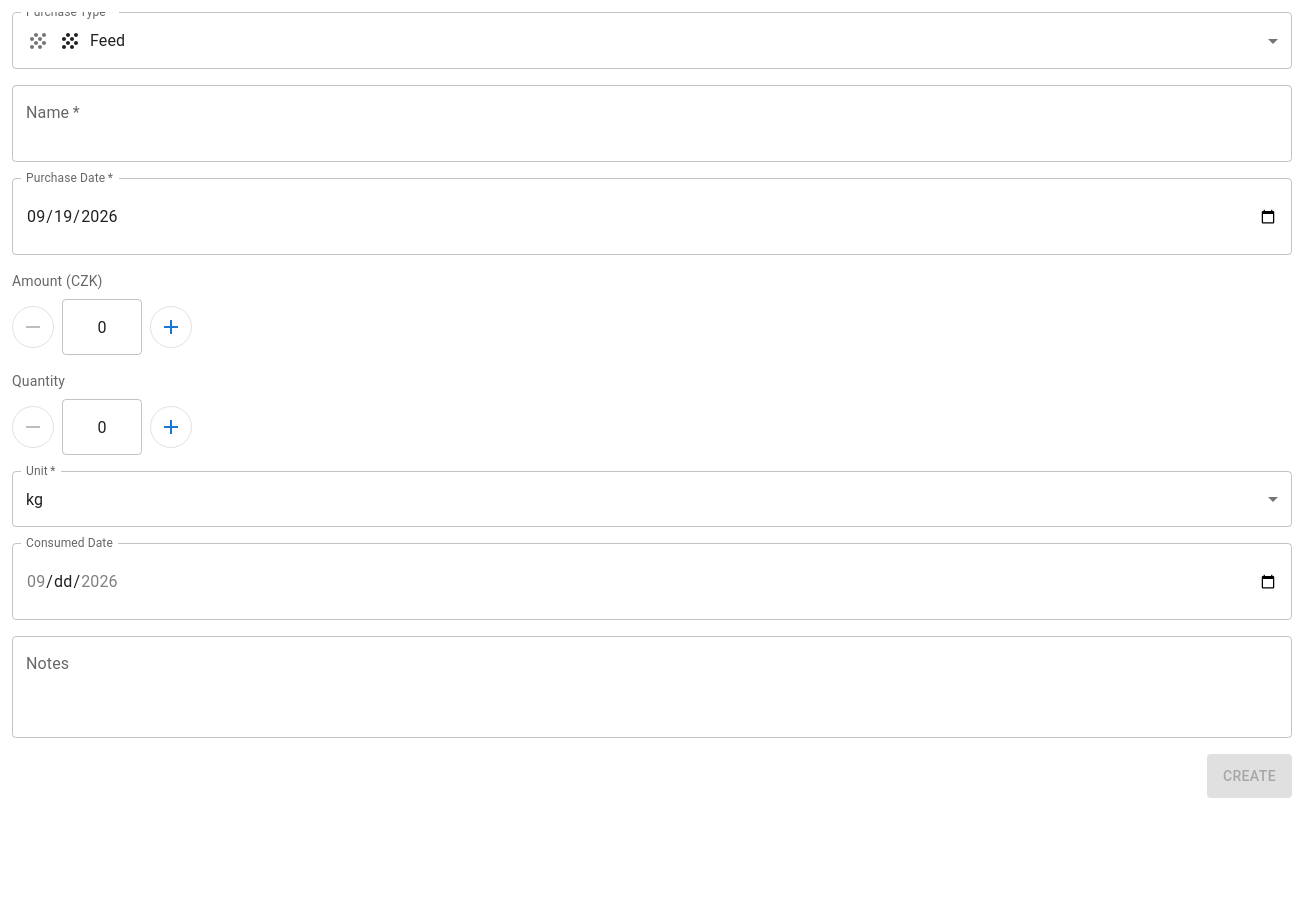
Test: PurchaseForm › Validation › should validate name field
Expected: the button "Create" is disabled, [1207,754,1292,798]
# Type a name
In the dropdown labelled "Name *": (637, 124) [21,94,1253,153], type "Test Purchase"
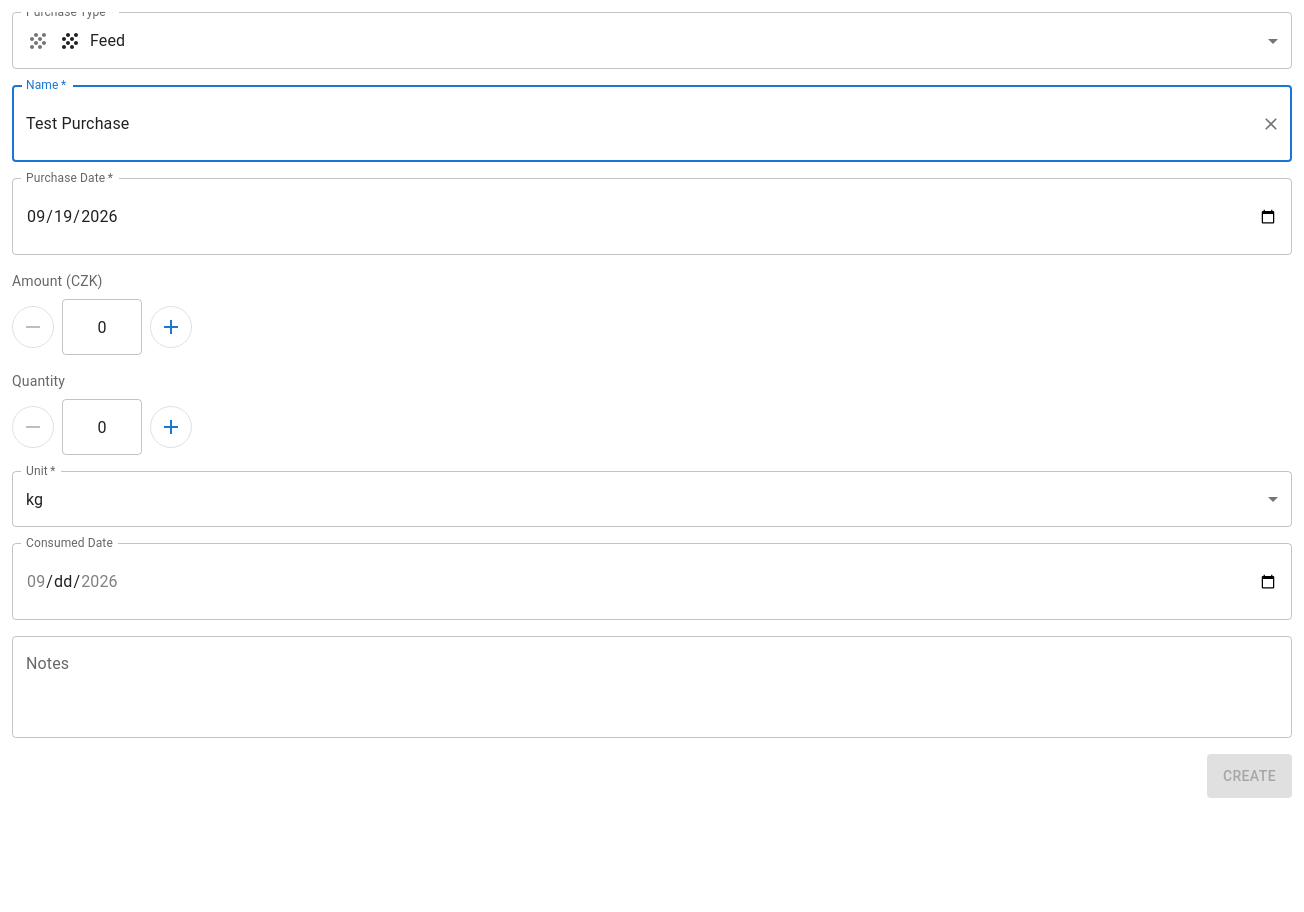
Expected: the button "Create" is disabled, [1207,754,1292,798]
Click the button named "Amount (CZK) increase": (171, 327) [150,306,192,348]
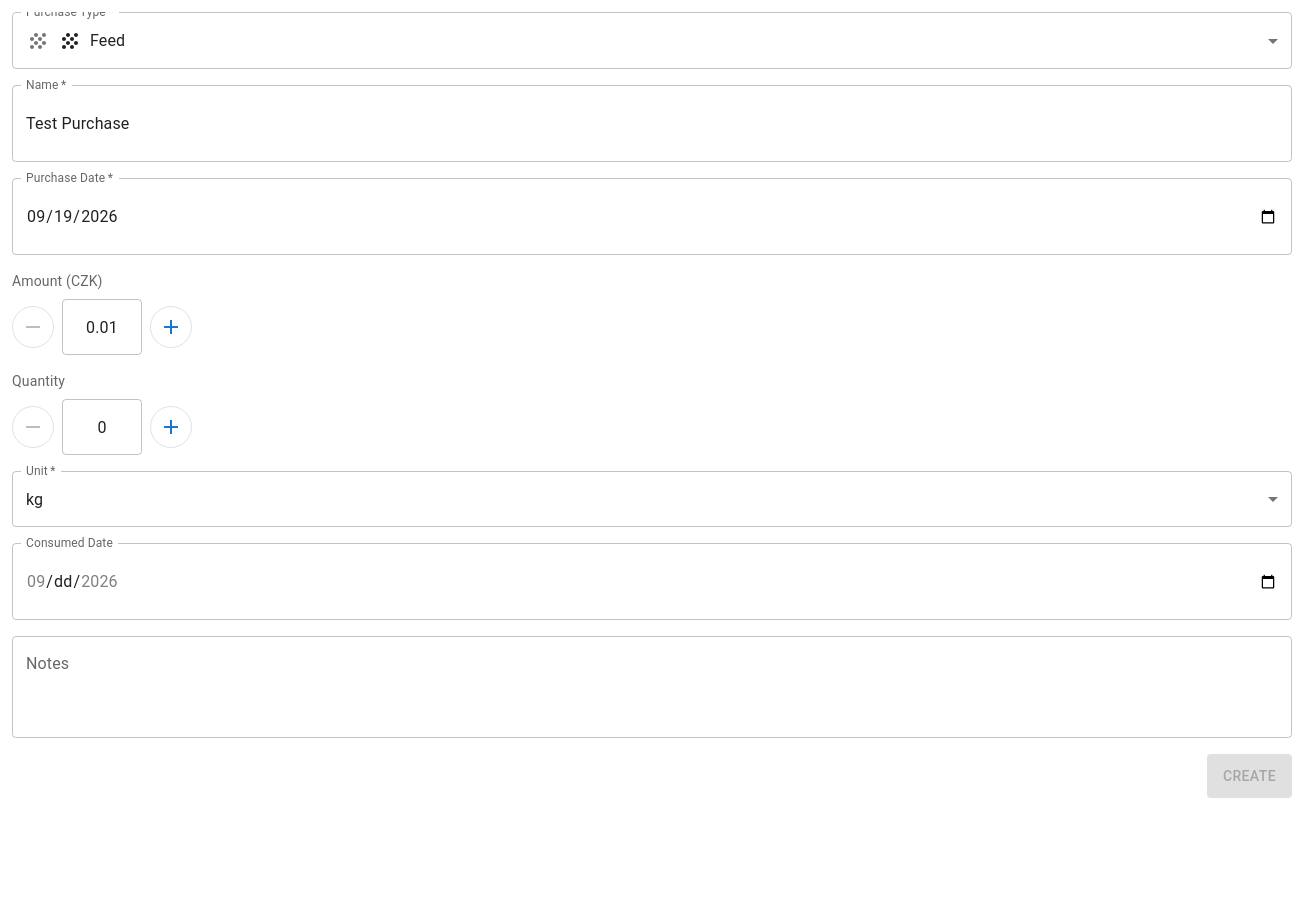
Click the button named "Quantity increase": (171, 427) [150,406,192,448]
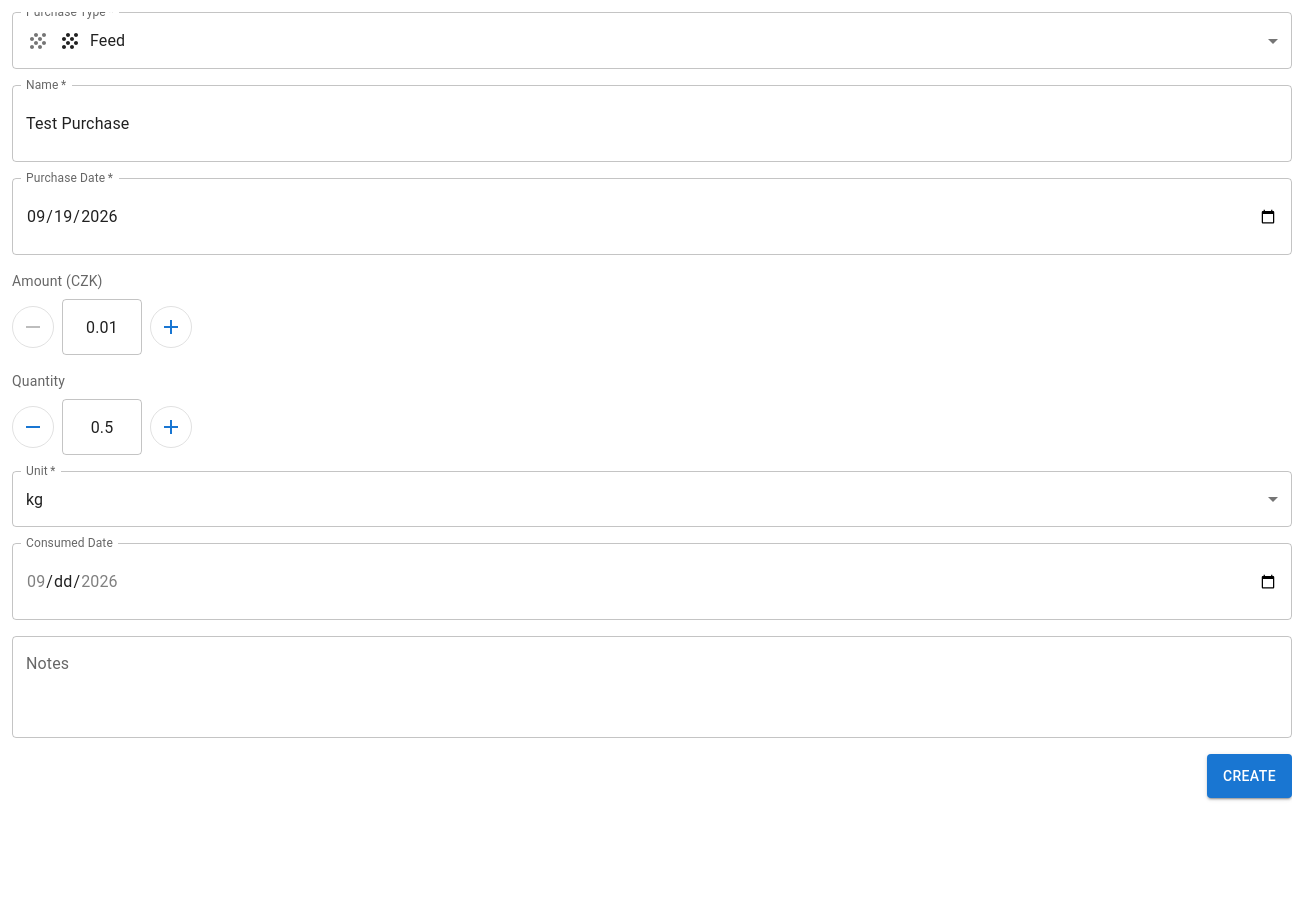
Result: the button "Create" is enabled at [1207,754,1292,798]
